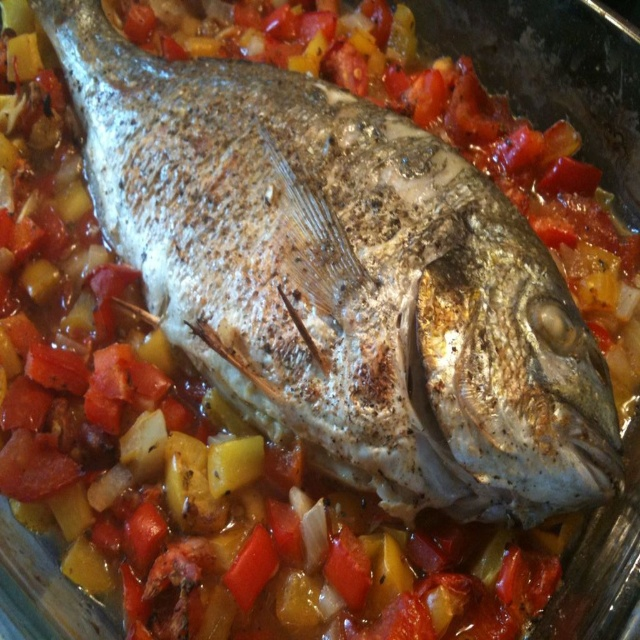Fish: (25, 0, 625, 530)
